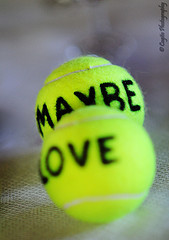tennis ball: (38, 105, 155, 222), (32, 53, 144, 141)
